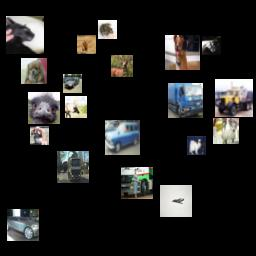airplane: (160, 185, 192, 217)
automobile: (105, 120, 140, 155), (7, 209, 39, 241), (63, 74, 82, 93)
bird: (28, 92, 60, 124)
cat: (6, 16, 44, 54), (213, 118, 239, 144)
deer: (65, 96, 87, 118), (111, 55, 133, 77), (77, 35, 96, 54)
dog: (165, 35, 200, 70), (21, 58, 47, 84), (30, 126, 49, 145), (187, 136, 206, 155)
frog: (98, 20, 117, 39)
truck: (215, 79, 253, 117), (168, 83, 203, 118), (57, 151, 89, 183), (121, 167, 153, 199)
